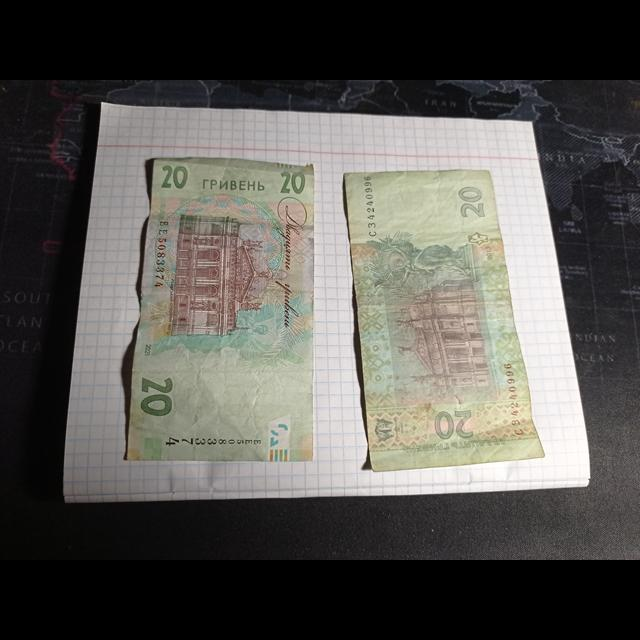20uah: (347, 171, 546, 475), (125, 157, 313, 460)
